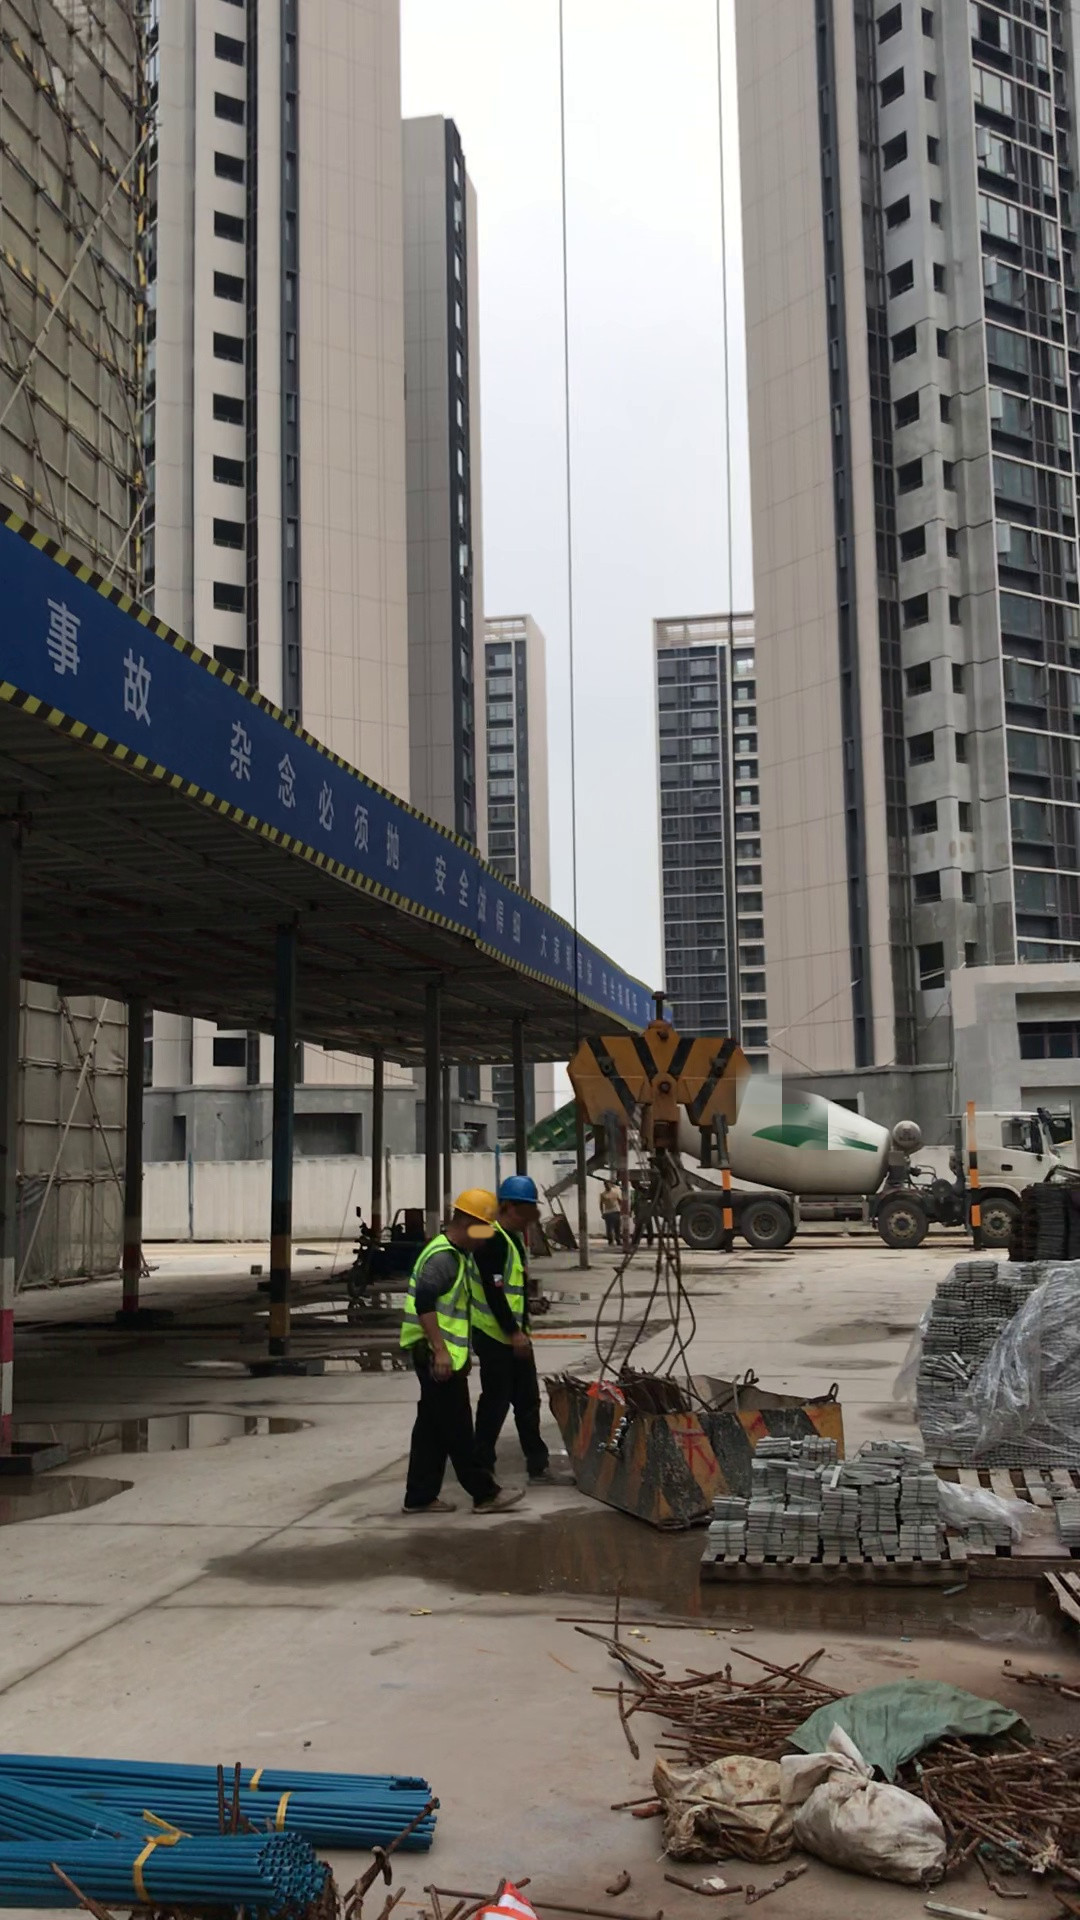helmet: (492, 1169, 555, 1230), (452, 1179, 498, 1227)
hook: (546, 986, 757, 1145)
person: (413, 1183, 502, 1513), (493, 1163, 561, 1483)
slogan: (43, 598, 657, 1029)
vest: (413, 1226, 466, 1372), (473, 1234, 525, 1350)
